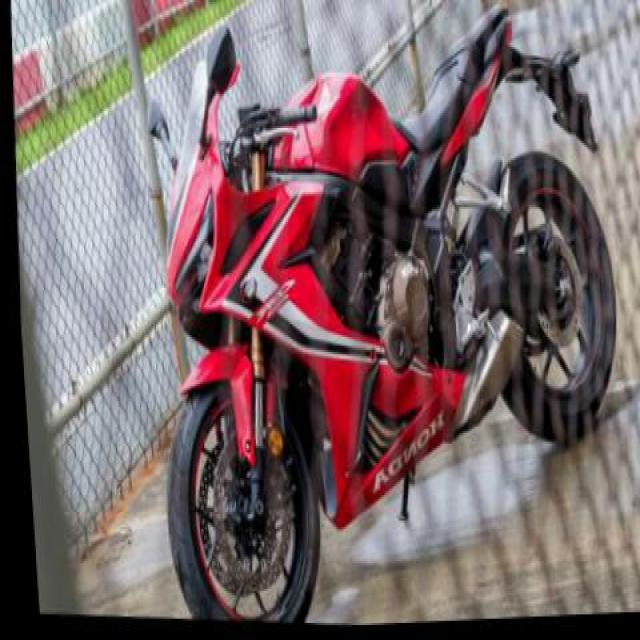CBR650R: (128, 0, 637, 634)
